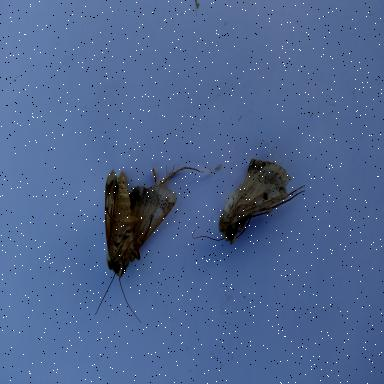abw: (94, 158, 206, 326), (190, 156, 308, 248)
